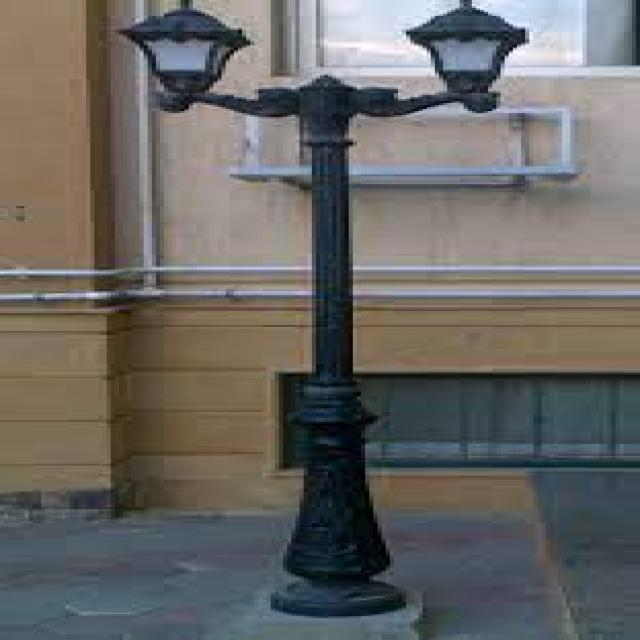Street Light: (123, 2, 529, 614)
